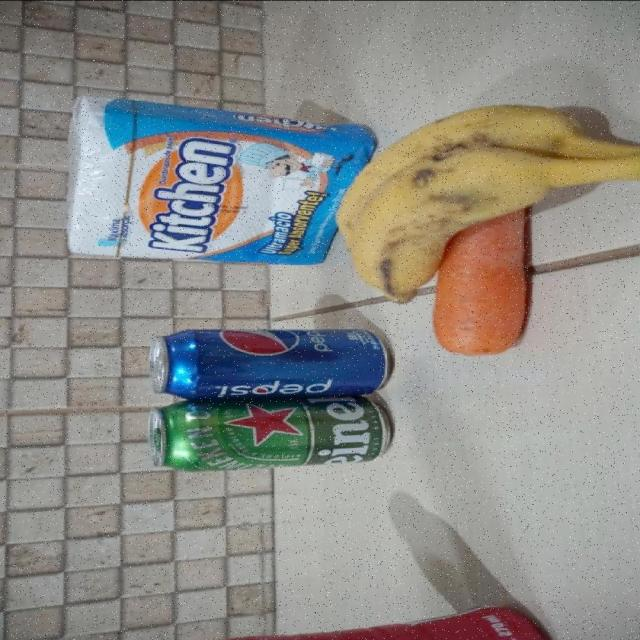Banana: (333, 104, 640, 305), (346, 102, 636, 291)
BeerCan: (143, 394, 401, 474), (154, 394, 404, 474)
Carrot: (423, 208, 535, 359), (432, 221, 534, 349)
ChocolateMilk: (199, 599, 557, 640), (159, 605, 548, 640)
Napkin: (62, 92, 386, 265), (70, 101, 351, 264)
SodaCan: (145, 325, 395, 399), (159, 324, 393, 401)
